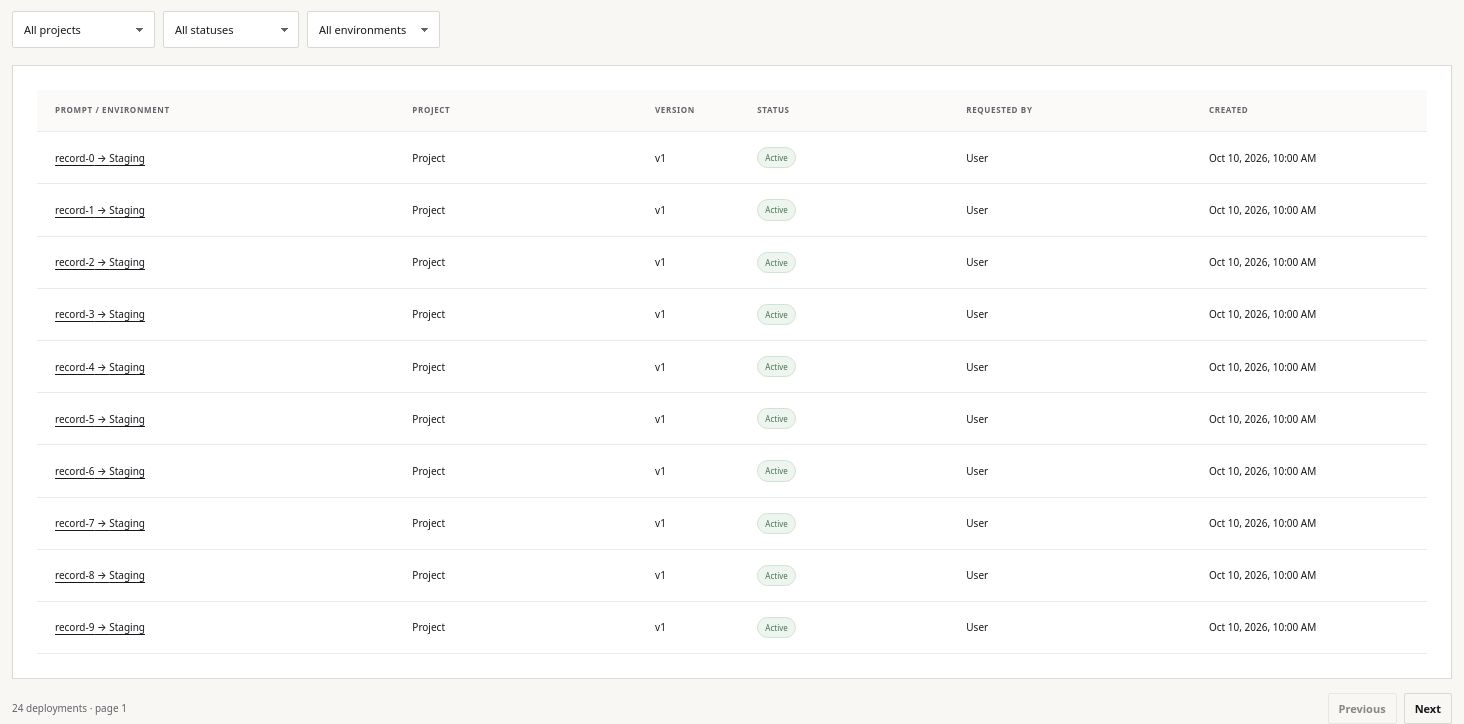
Test: deployments list correctness › reaches records beyond page one and filters the entire server result set
(page scrolled)
Click the button "Next" at (1428,709), box x1=1404 y1=693 x2=1452 y2=723
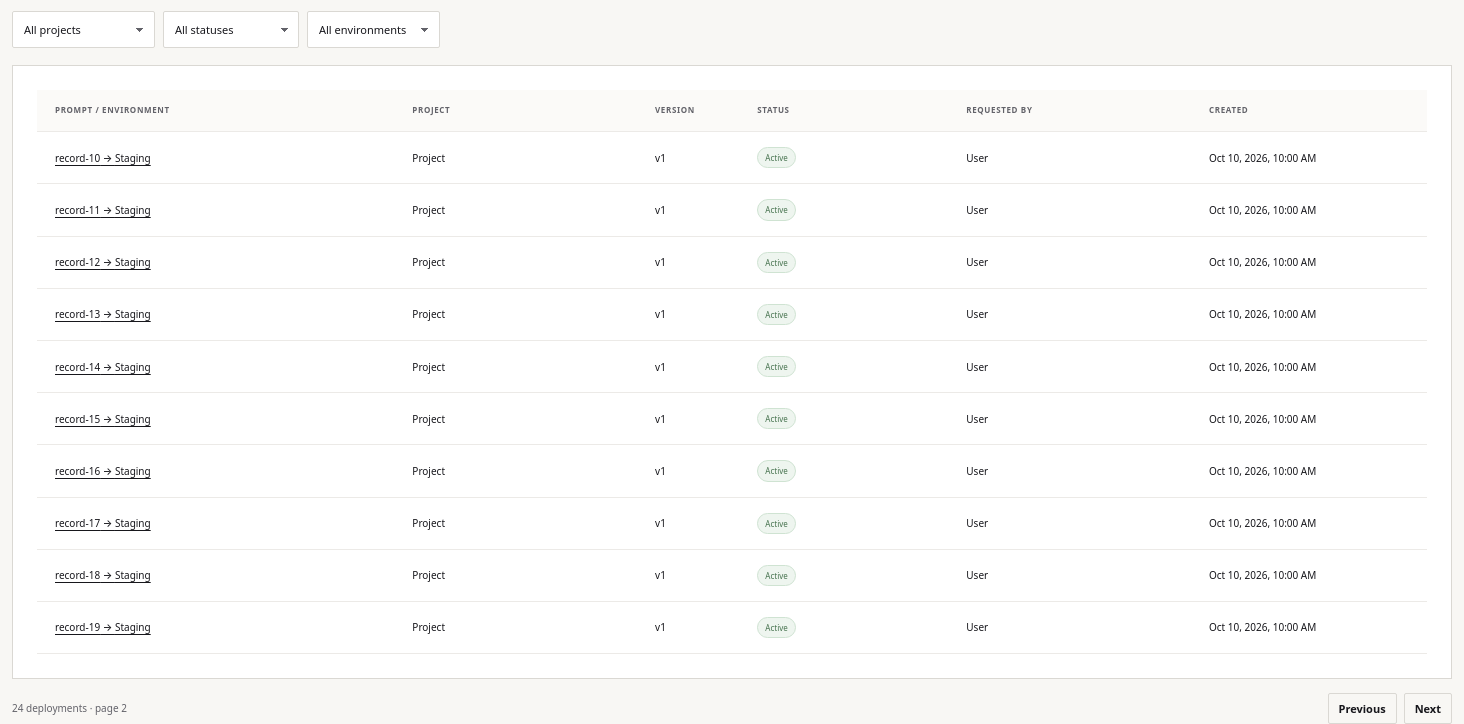
Click the button "Next" at (1428,709), box x1=1404 y1=693 x2=1452 y2=723
(page scrolled)
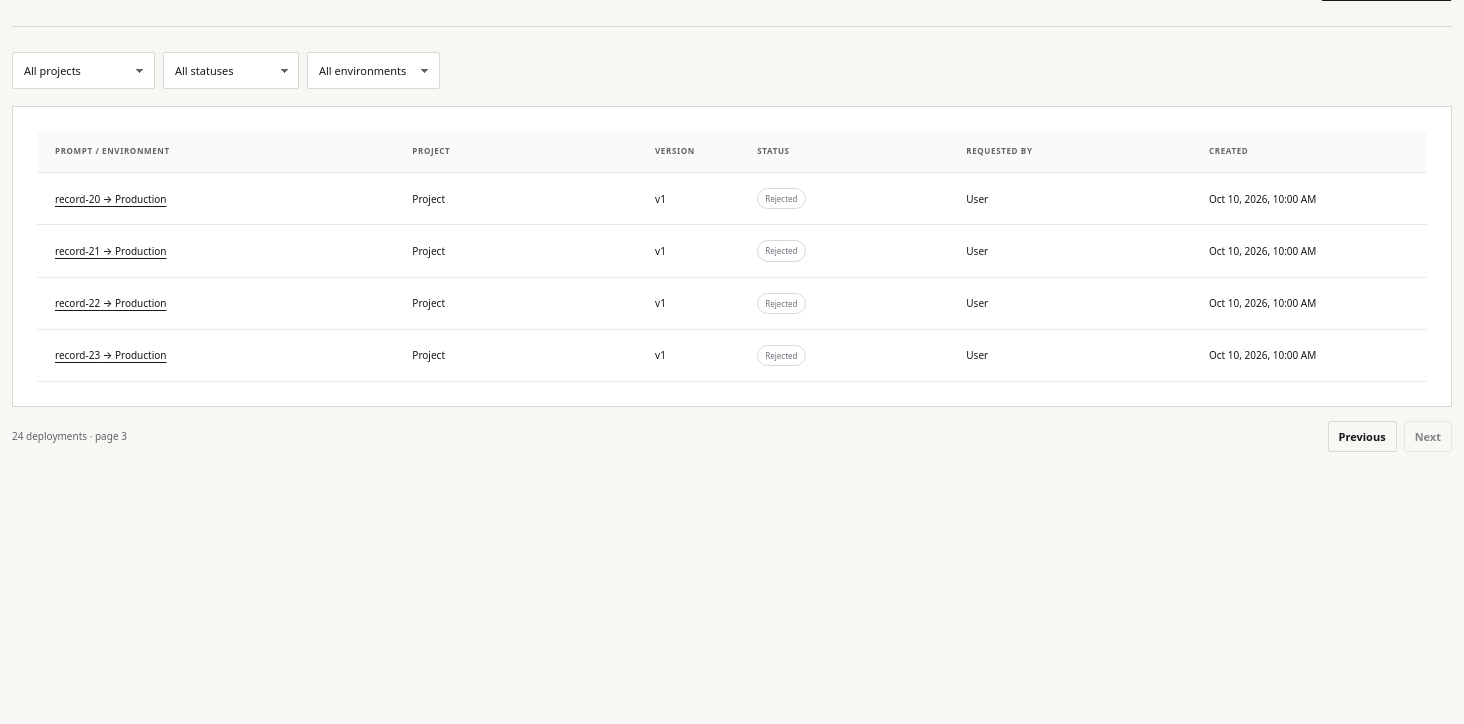
Select "Rejected" in the dropdown named "Deployment status" at (231,71), box x1=163 y1=52 x2=299 y2=89
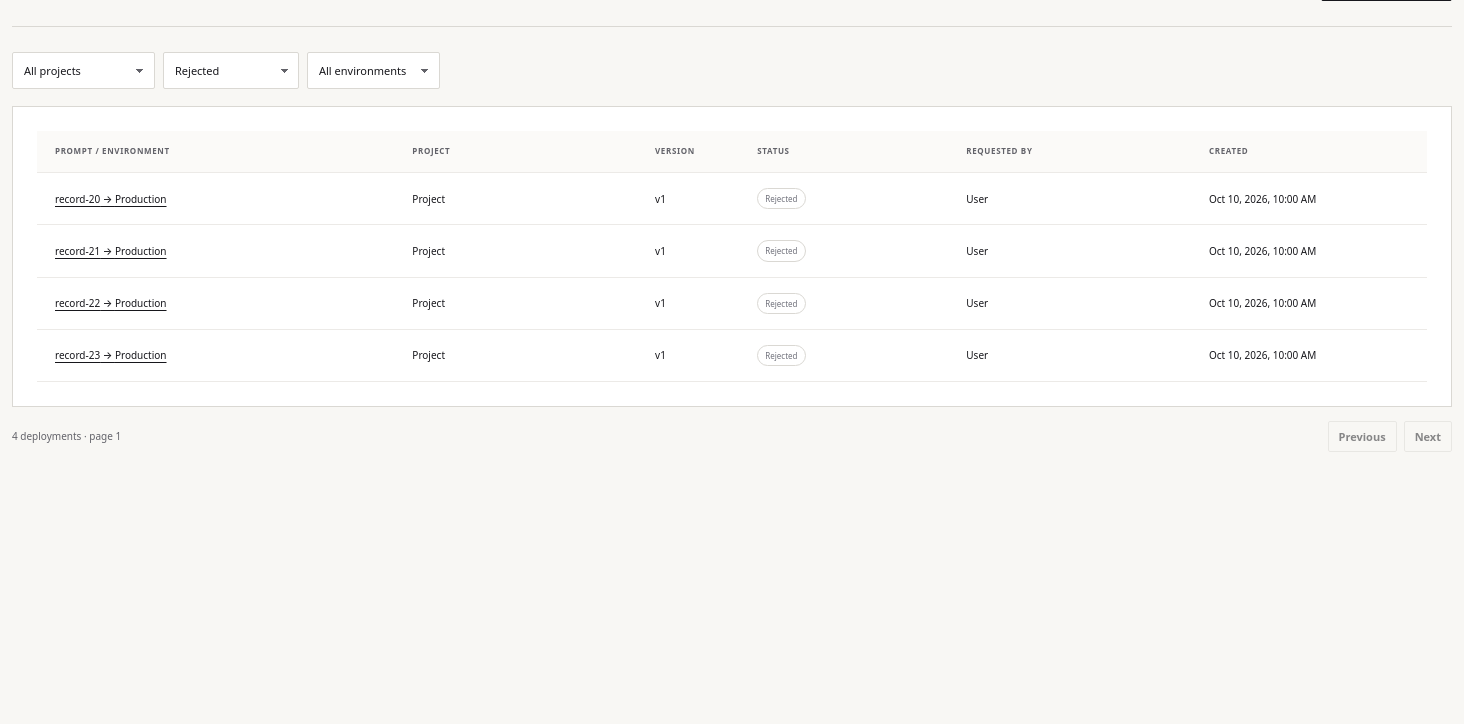
Result: the number of rows is 5 at x1=37 y1=131 x2=1427 y2=173; x1=37 y1=173 x2=1427 y2=225; x1=37 y1=225 x2=1427 y2=277; x1=37 y1=277 x2=1427 y2=329; x1=37 y1=329 x2=1427 y2=382
Result: the button "Next" is disabled at x1=1404 y1=421 x2=1452 y2=452
Result: the text "4 deployments · page 1" is shown at x1=12 y1=429 x2=121 y2=444
